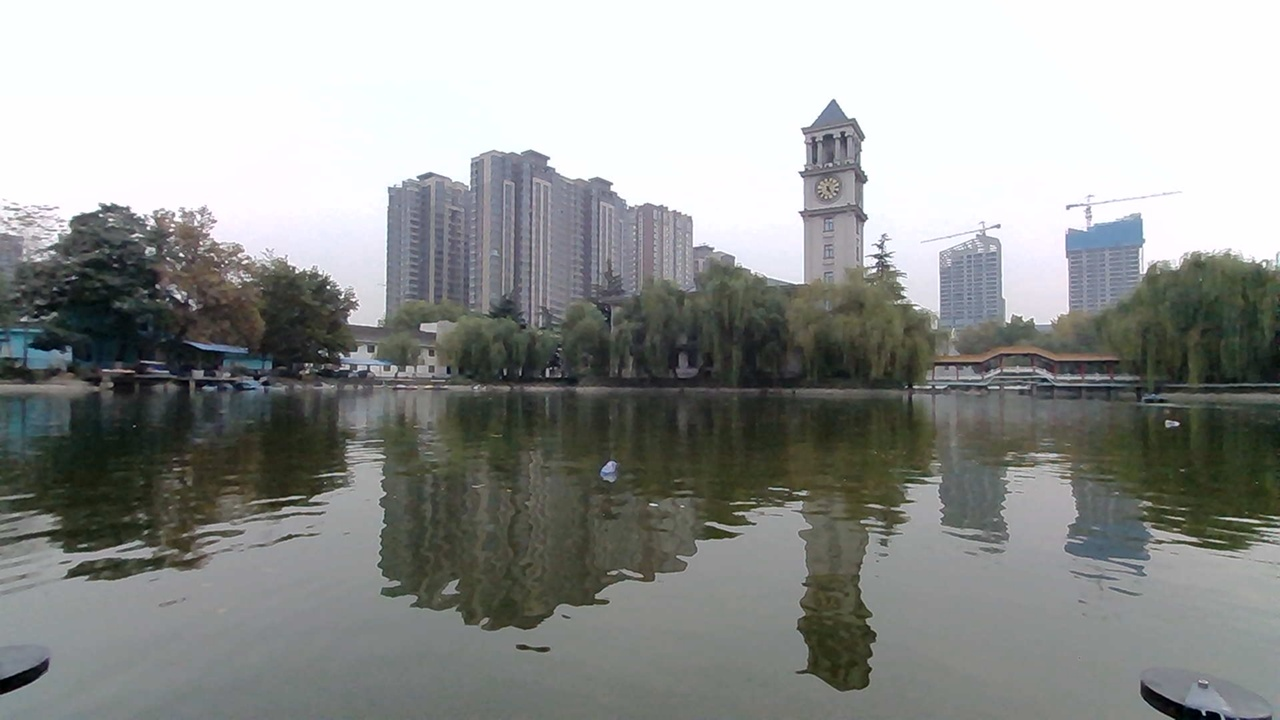bottle: (569, 438, 647, 485), (1154, 406, 1194, 433)
